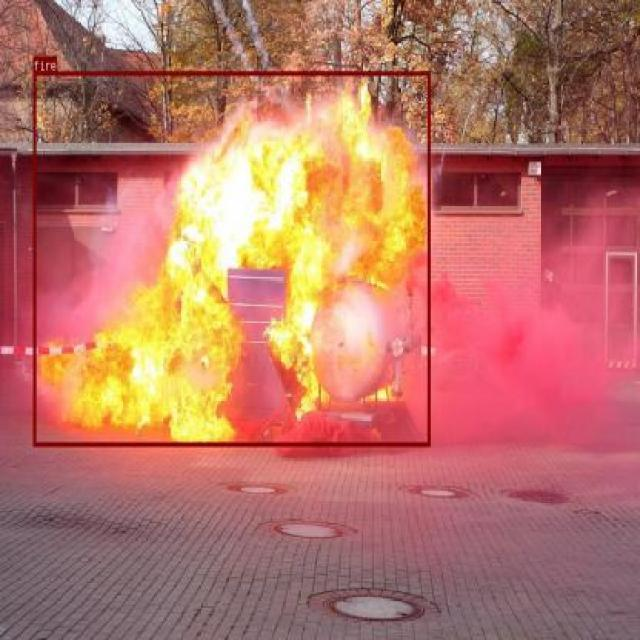Fire: (33, 70, 430, 444)
Smoke: (431, 234, 640, 463)
